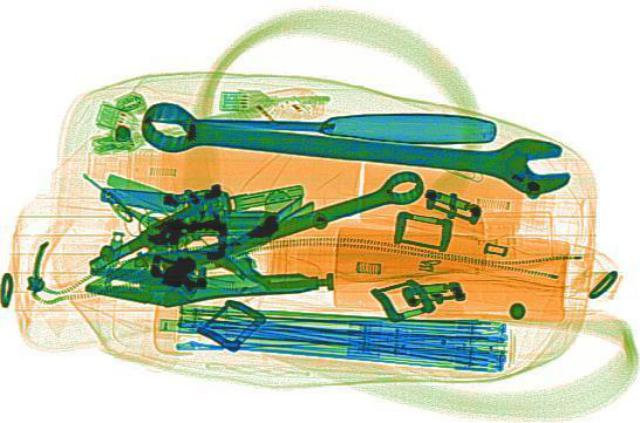Gun: (75, 182, 282, 295)
Knife: (140, 101, 494, 143)
Wrench: (130, 94, 580, 195)
